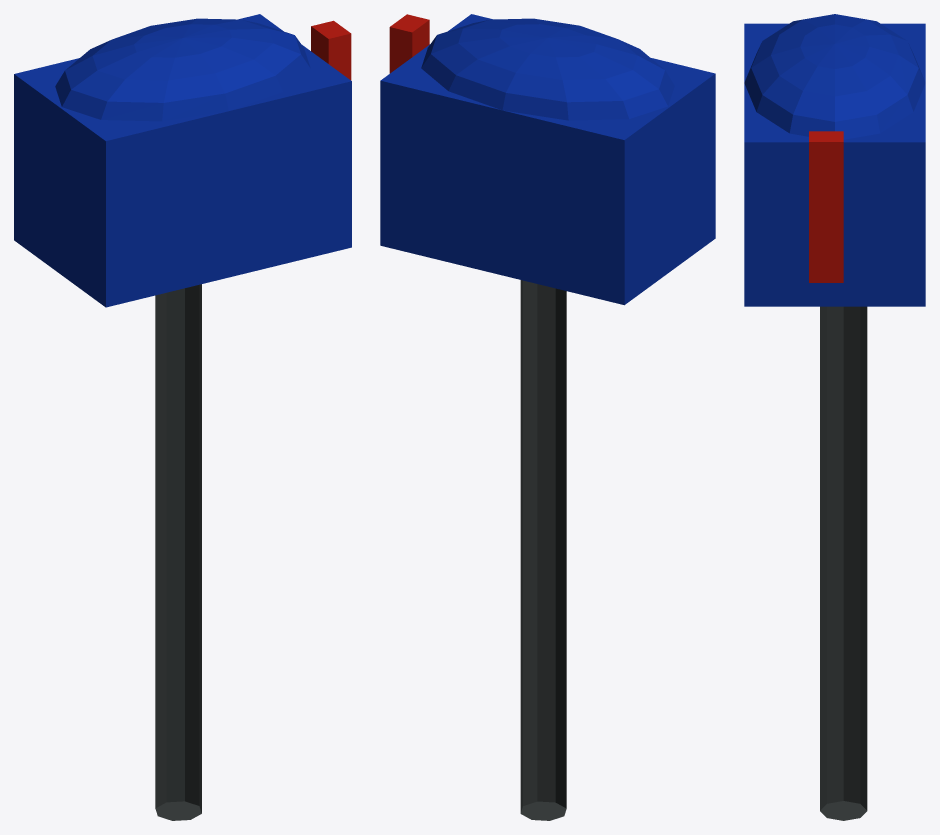
Rendered from Prop_Mailbox.obj.
The picture shows the model from 3 angles, left to right: view 1: azimuth 30°, elevation 25°; view 2: azimuth 150°, elevation 25°; view 3: azimuth 270°, elevation 25°; orthographic projection.
Parts seen in each view (by area): view 1: Box, Post, RoundedTop, Flag; view 2: Box, Post, RoundedTop, Flag; view 3: Box, Post, RoundedTop, Flag.
Part boxes in pixels (x1,y1,x2,y2): Box: (14, 14, 351, 307); Post: (155, 284, 201, 820); RoundedTop: (55, 18, 310, 121); Flag: (311, 20, 351, 80); Box: (380, 14, 715, 305); Post: (520, 280, 566, 820); RoundedTop: (421, 18, 674, 120); Flag: (389, 14, 429, 73); Box: (744, 23, 925, 306); Post: (820, 306, 867, 820); RoundedTop: (744, 14, 925, 139); Flag: (809, 131, 843, 282).
Bounding box in the file's own units: 0.735 × 1.96 × 0.42.
